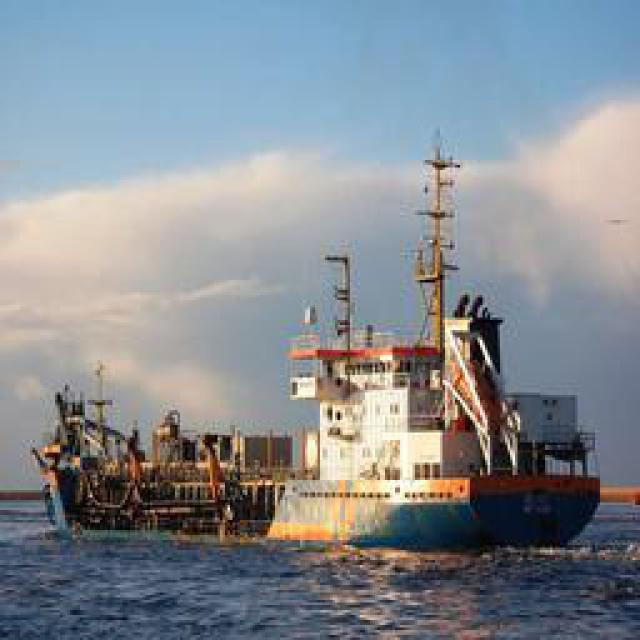Ship: (98, 177, 593, 555)
